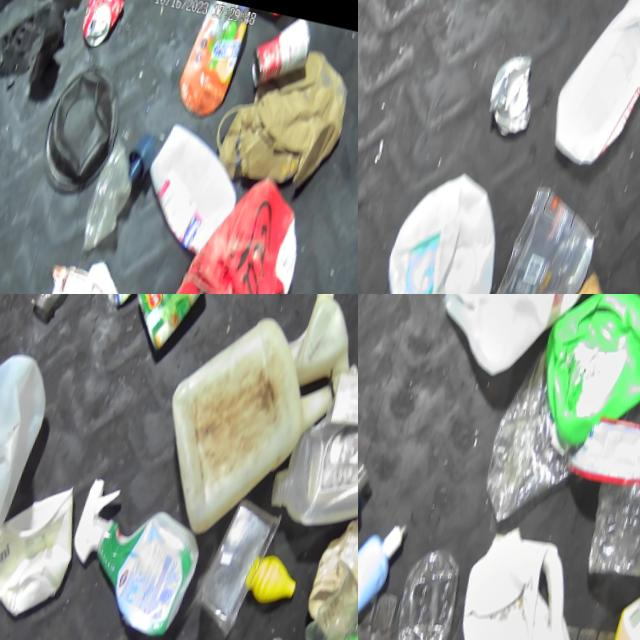can: (243, 9, 327, 95), (127, 294, 217, 355), (68, 0, 137, 60)
milk_jug: (364, 156, 526, 294), (432, 518, 611, 640), (546, 0, 640, 165), (422, 294, 580, 375), (0, 343, 58, 557)
non_white_jug: (526, 294, 640, 460)
plastic_bottle: (382, 541, 475, 640), (605, 351, 640, 569), (26, 294, 126, 323)
